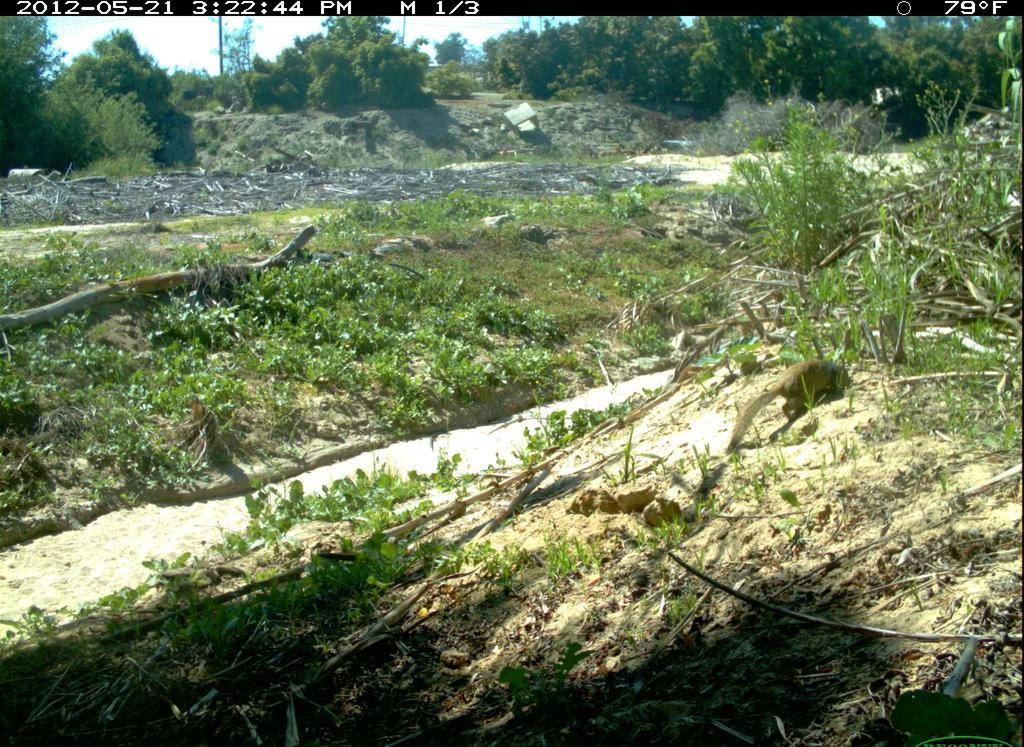squirrel: (708, 312, 875, 470)
